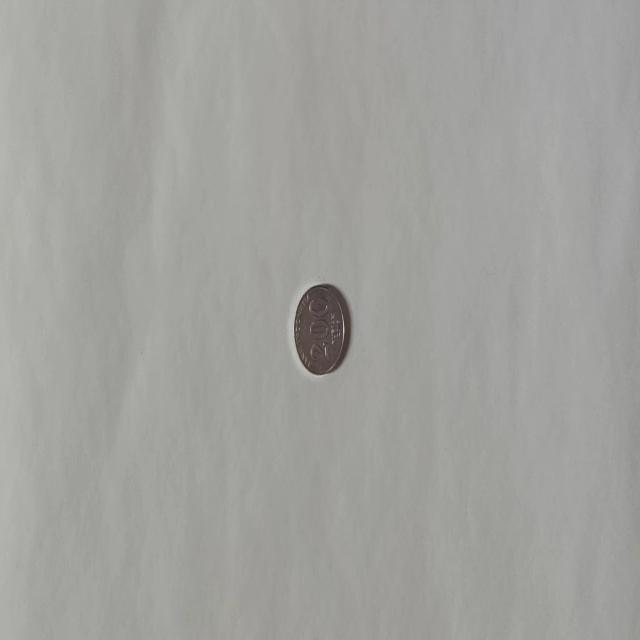dua ratus rupiah: (292, 282, 346, 376)
